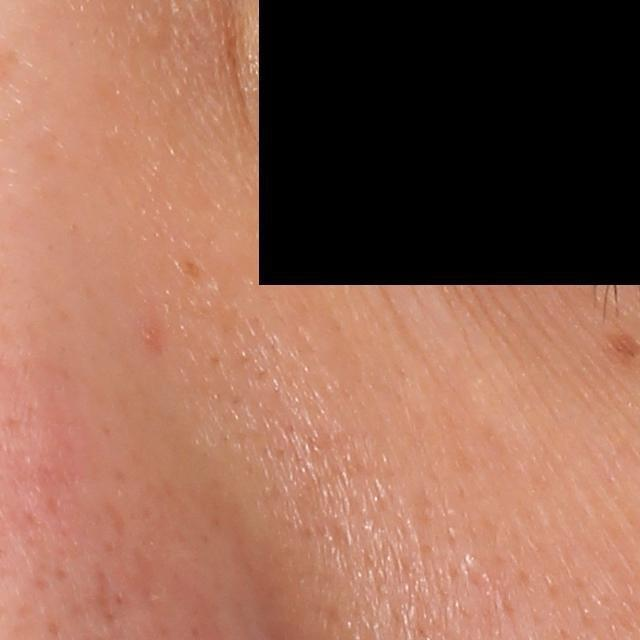comedo: (137, 21, 170, 51)
